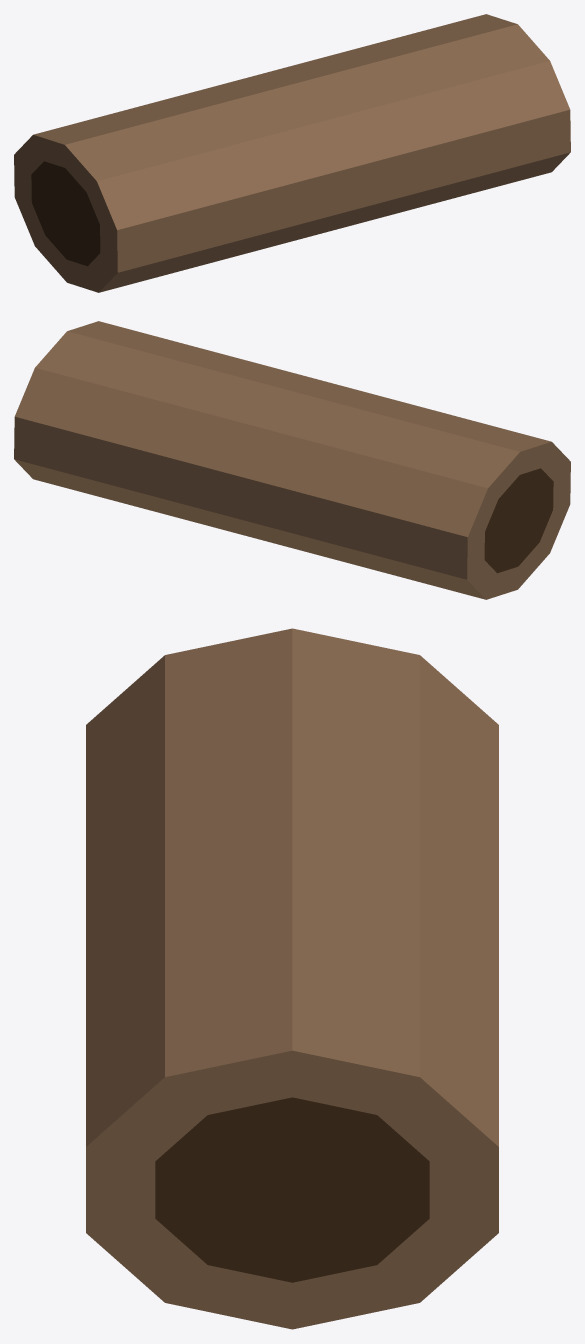
The model's file is Tronco_plataforma 1.fbx.
The picture shows the model from 3 angles, top to bottom: view 1: azimuth 30°, elevation 25°; view 2: azimuth 150°, elevation 25°; view 3: azimuth 270°, elevation 25°; orthographic projection. The views are drawn at different scales.
Parts seen in each view (by area): view 1: pCylinder4; view 2: pCylinder4; view 3: pCylinder4.
Part boxes in pixels (x1,y1,x2,y2): pCylinder4: (14, 14, 570, 292); pCylinder4: (14, 321, 570, 599); pCylinder4: (86, 628, 498, 1329).
Size of the model in its own units: 8.14 by 2.54 by 3.2.
